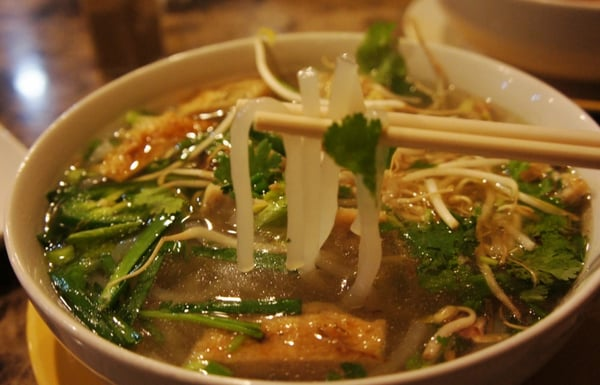curry: (506, 212, 585, 282), (355, 21, 412, 95)
salad: (369, 112, 600, 167)
sushi: (18, 16, 600, 384), (427, 0, 600, 96)
